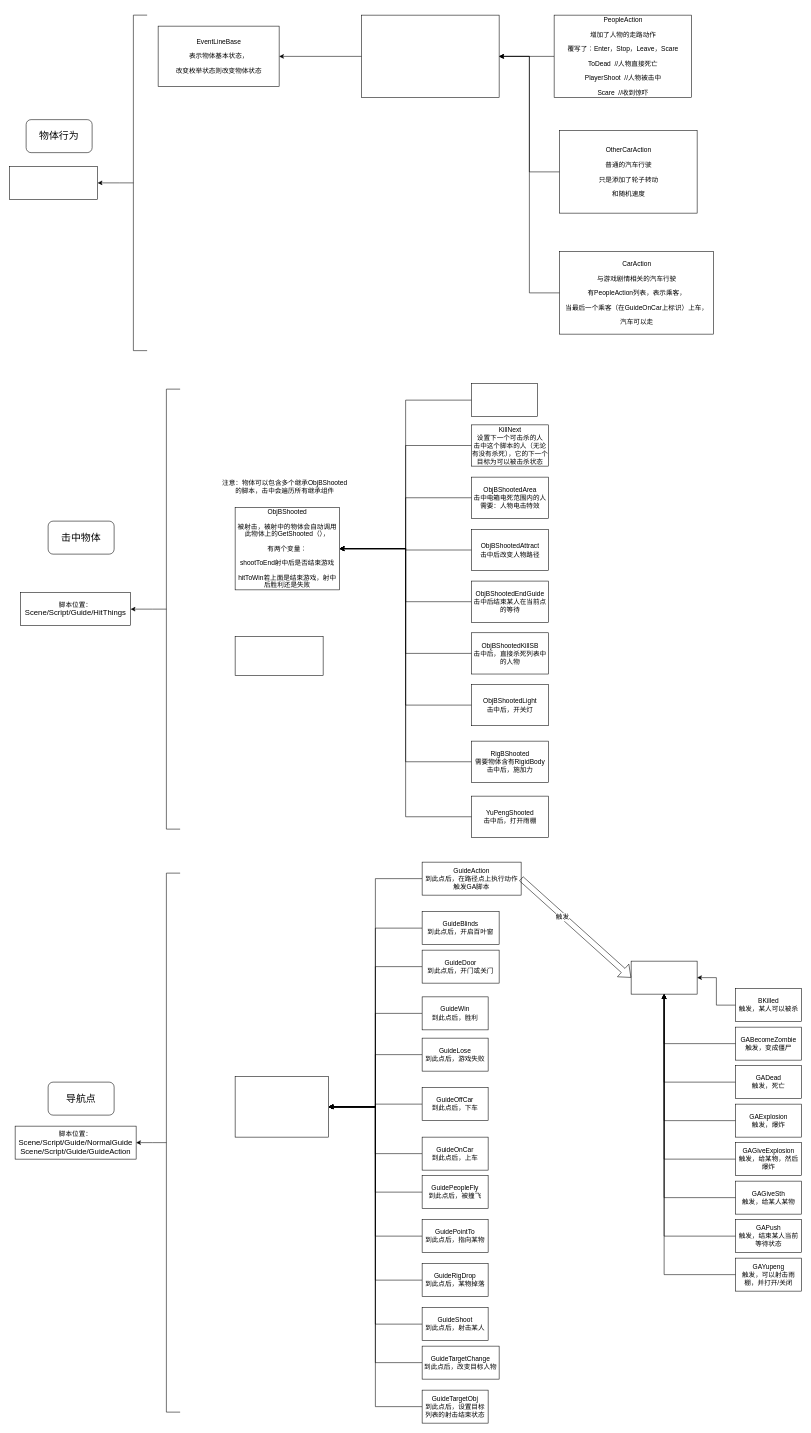
Some shapes in this 811 by 1433 pixel diagram are drawn without their labels. Here are the shapes that lost their labels. From the top down, the centre of each, then its label:
the point at 430,56: EventLineImp 实现了物体按路径点移动， 进入路径点，停留在路径点， 离开路径点。 覆写了：Enter，Stay， Leave，Moving
the point at 53,182: 脚本位置： Scene/Script/Action
the point at 504,400: DoubleKill 击中后击杀正方体范围内的所有人
the point at 279,656: HitPeopleRig 放在物体上，砸中的人死亡 （比如把此脚本放在一个掉落的箱子上，砸中了人，人就死亡）
the point at 664,977: GAEventBase 调用ActionEvent
the point at 282,1106: GuideBase 路径点继承的基类 包含变量： 等待时间， 移动速度， 是否一直等待， 在此点的人物
